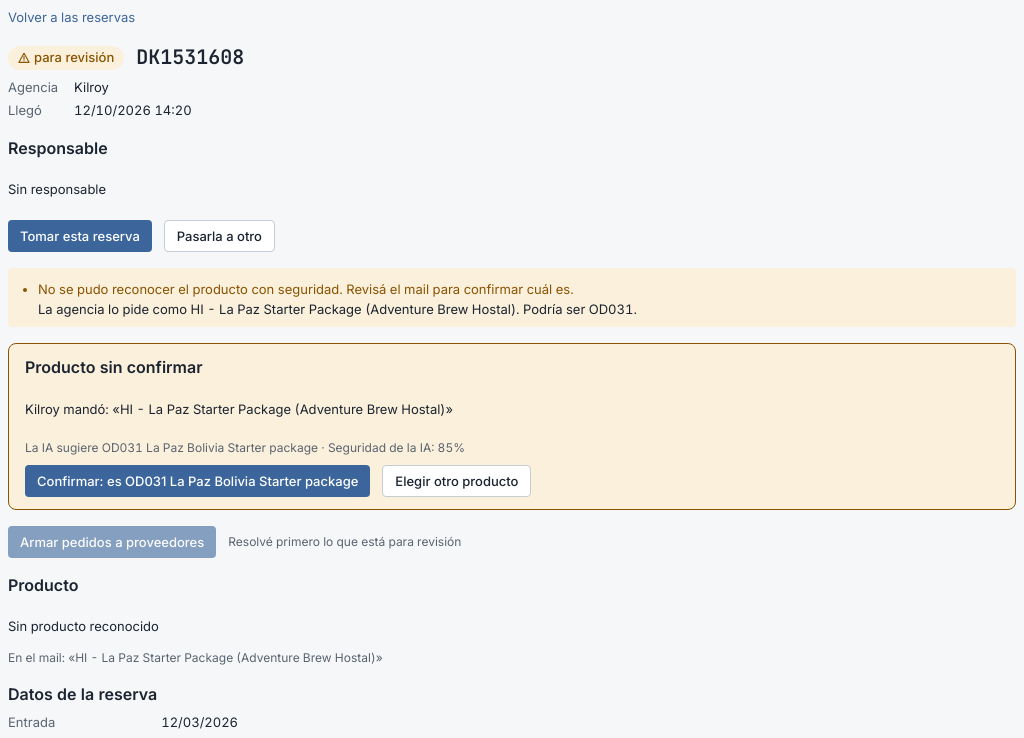
Test: M3-05 fila 2 — elegir otro producto del catálogo › si no está en el catálogo: 'Ese producto no está en el catálogo: hay que cargarlo primero'
Click the button "Elegir otro producto" at (457, 481), box [382, 465, 531, 497]
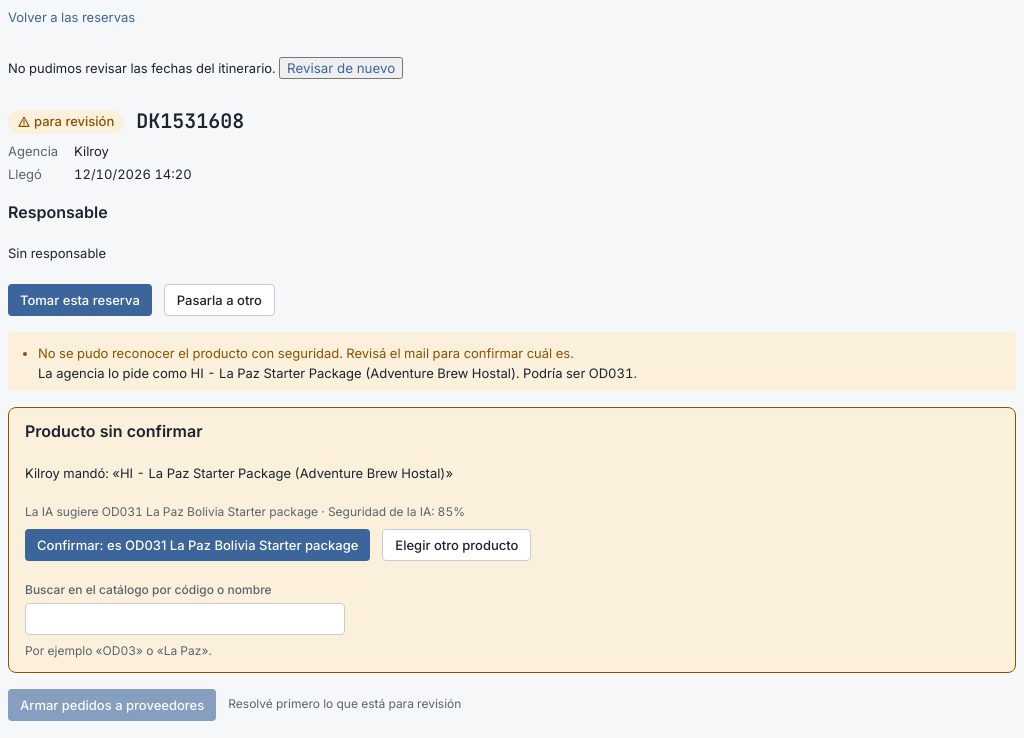
Type "Machu Picchu" into the search field labelled "Buscar en el catálogo por código o nombre" at (185, 619), box [25, 603, 345, 635]
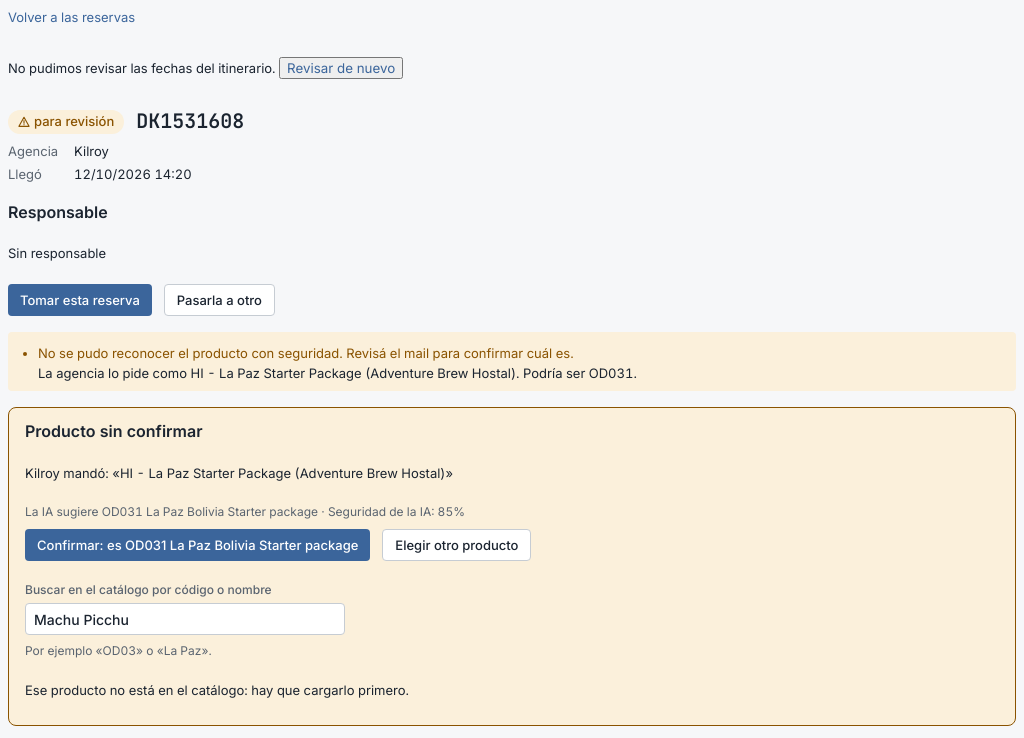
Expected: the text "Ese producto no está en el catálogo: hay que cargarlo primero." is shown, [25, 682, 409, 698]
